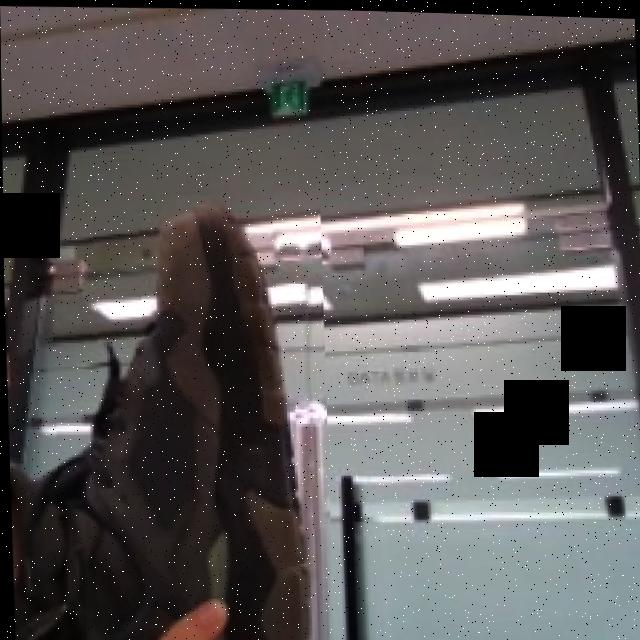shoe: (22, 187, 331, 640)
